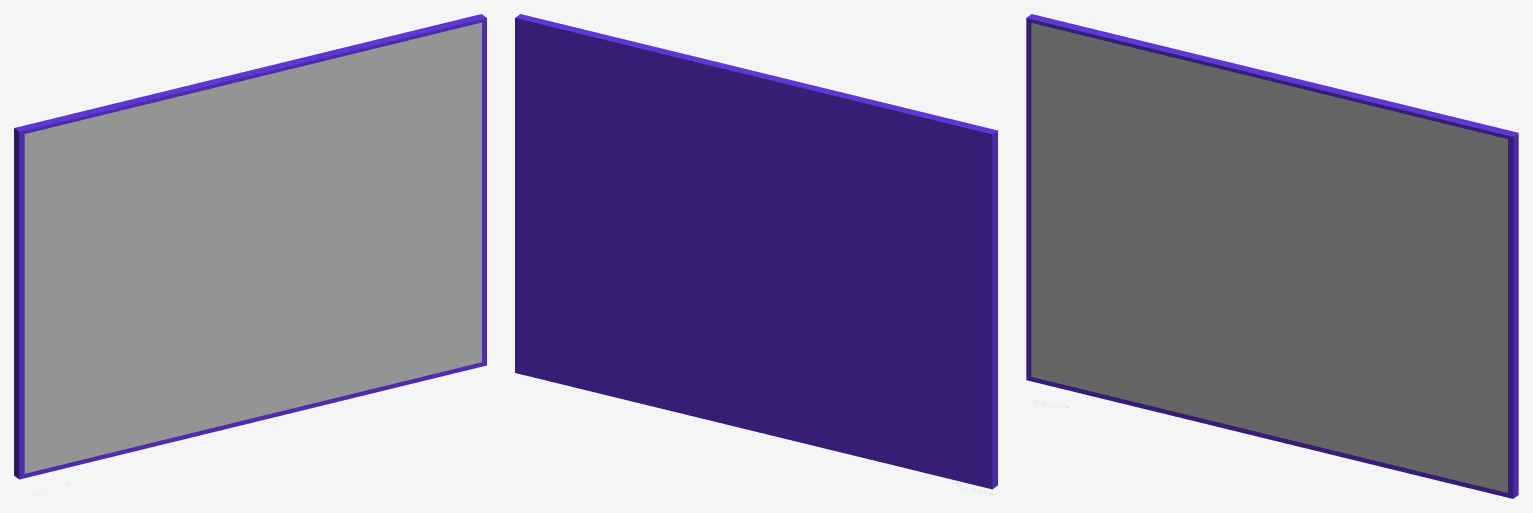
Rendered from FloydDigitalMural1.gltf.
The picture shows the model from 3 angles, left to right: view 1: azimuth 30°, elevation 25°; view 2: azimuth 150°, elevation 25°; view 3: azimuth 330°, elevation 25°; orthographic projection. The views are drawn at different scales.
Parts seen in each view (by area): view 1: george, Box; view 2: Box; view 3: george, Box.
Boxes of the visible parts, x1,y1,x2,y2 form: george: (24,22,481,473); Box: (14,14,486,479); Box: (515,14,997,489); george: (1031,23,1507,492); Box: (1026,14,1518,498).
Size of the model in its own units: 2.26 by 1.69 by 0.08.
